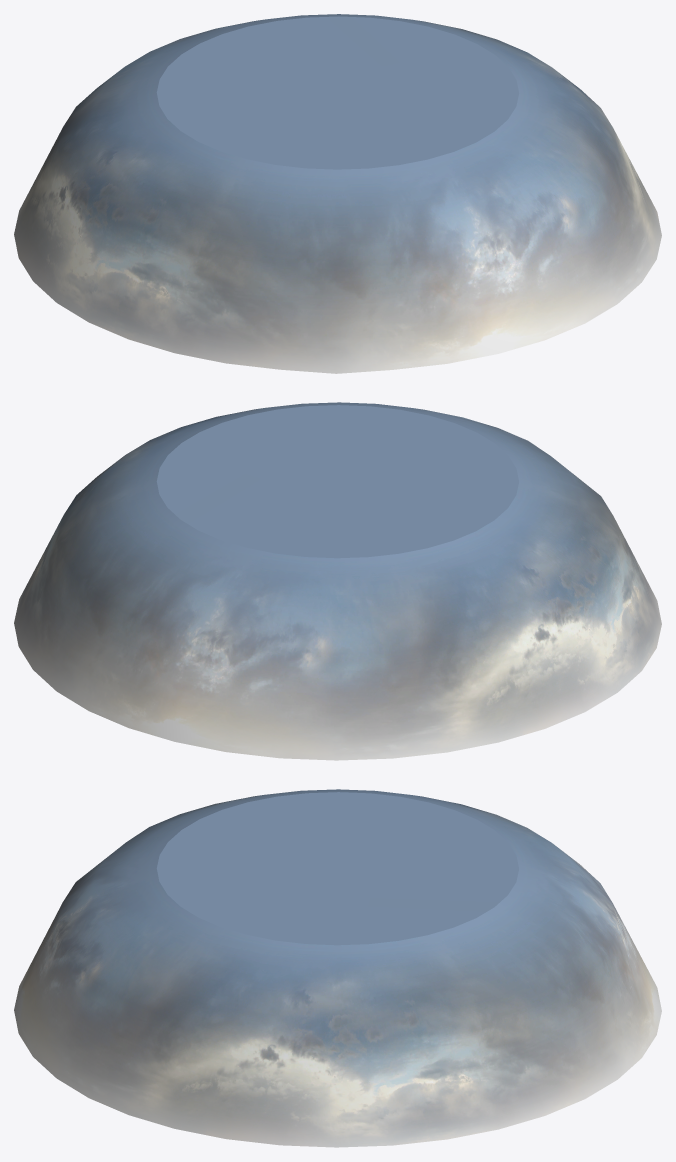
Rendered from Sky.fbx.
The picture shows the model from 3 angles, top to bottom: view 1: azimuth 30°, elevation 25°; view 2: azimuth 150°, elevation 25°; view 3: azimuth 270°, elevation 25°; orthographic projection.
Visible parts, largest first — view 1: Sky; view 2: Sky; view 3: Sky.
Boxes of the visible parts, x1,y1,x2,y2 form: Sky: [14, 14, 661, 373]; Sky: [14, 402, 661, 760]; Sky: [14, 789, 661, 1147].
Size of the model in its own units: 575087 by 141439 by 575087.
